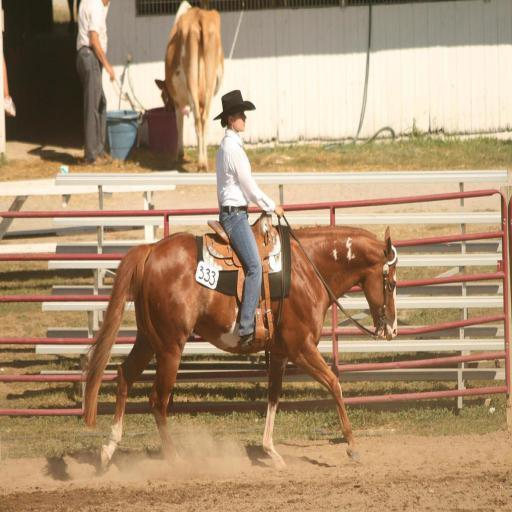horse: (74, 208, 396, 476)
